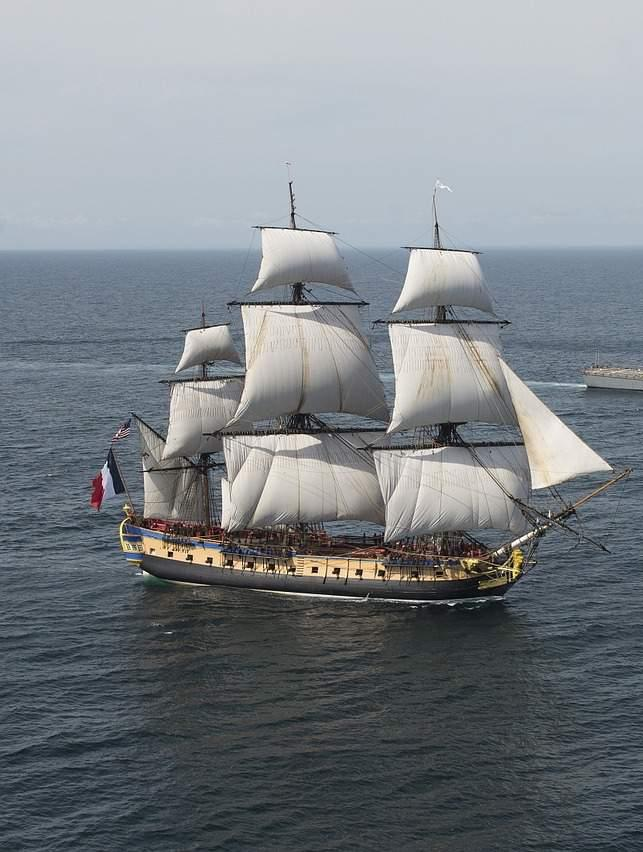Ship: (88, 183, 617, 608)
